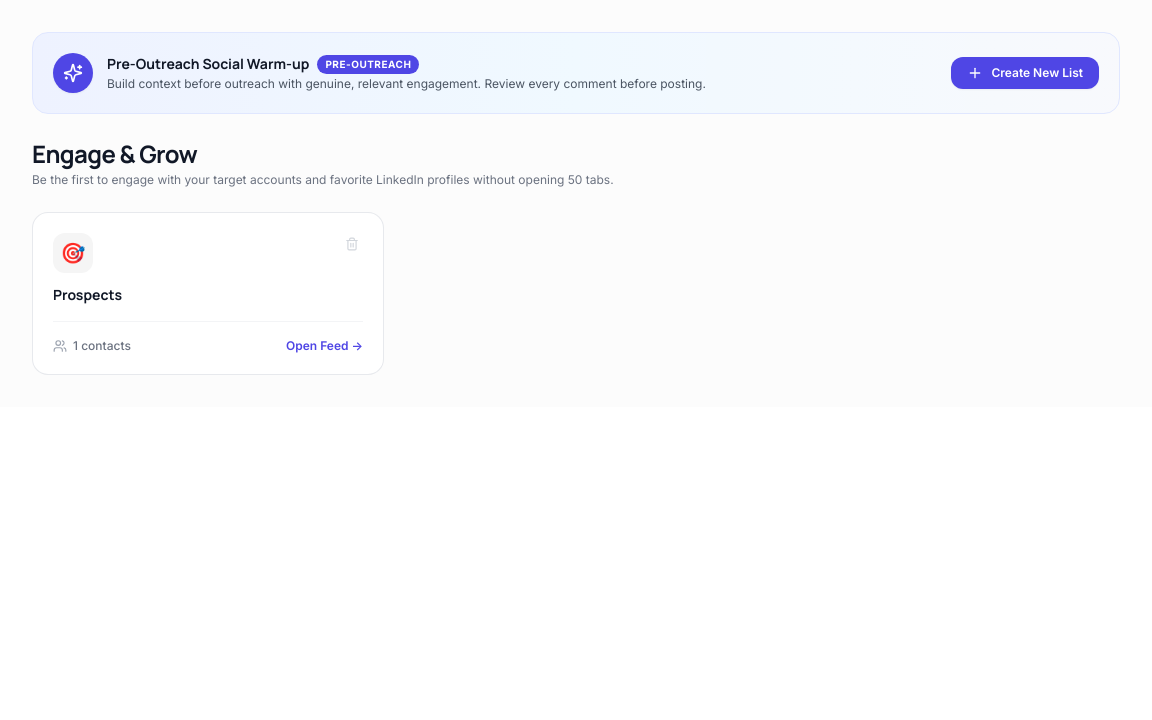
Engage review and reporting › approves and posts a review draft to LinkedIn and marks it completed
This screenshot has width=1152, height=720.
Later steps or results of the test are not shown.
What coordinates should you click on to do the following:
click the element showing "🎯 Prospects 1 contacts Open Feed →"
I would click on:
 (208, 294)
Its box is [32, 212, 384, 375].
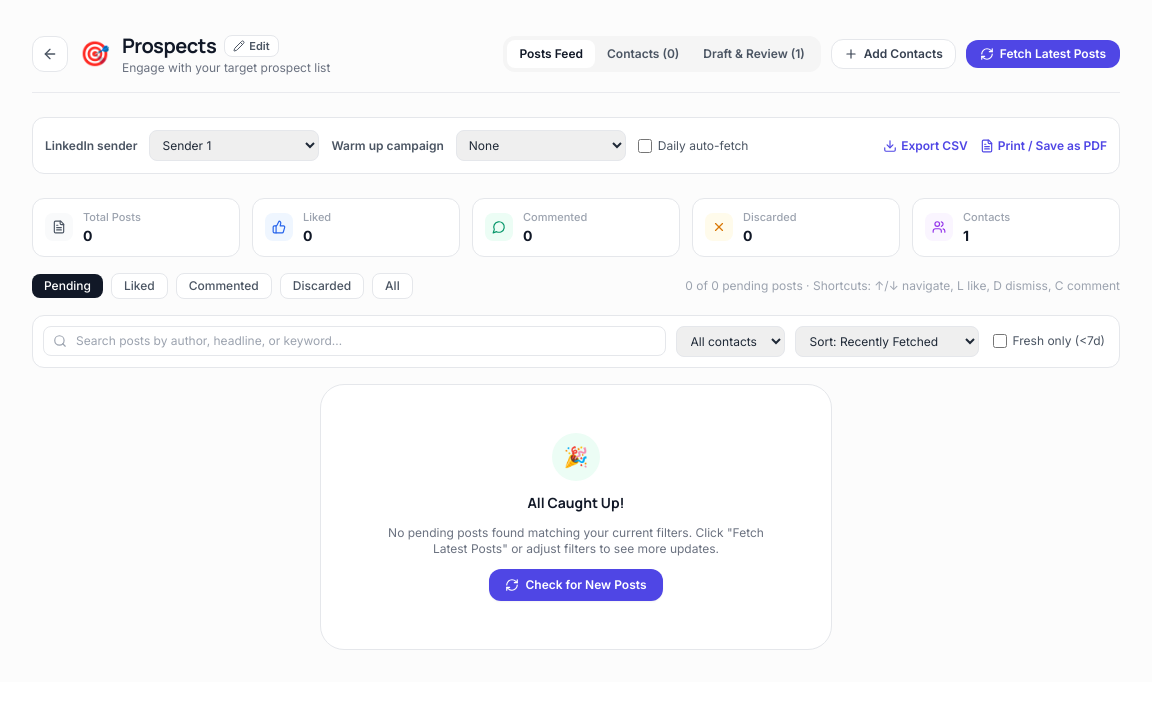
What coordinates should you click on to do the following:
click the button "Draft & Review (1)"
I would click on:
 (754, 54)
Its box is [691, 40, 817, 68].
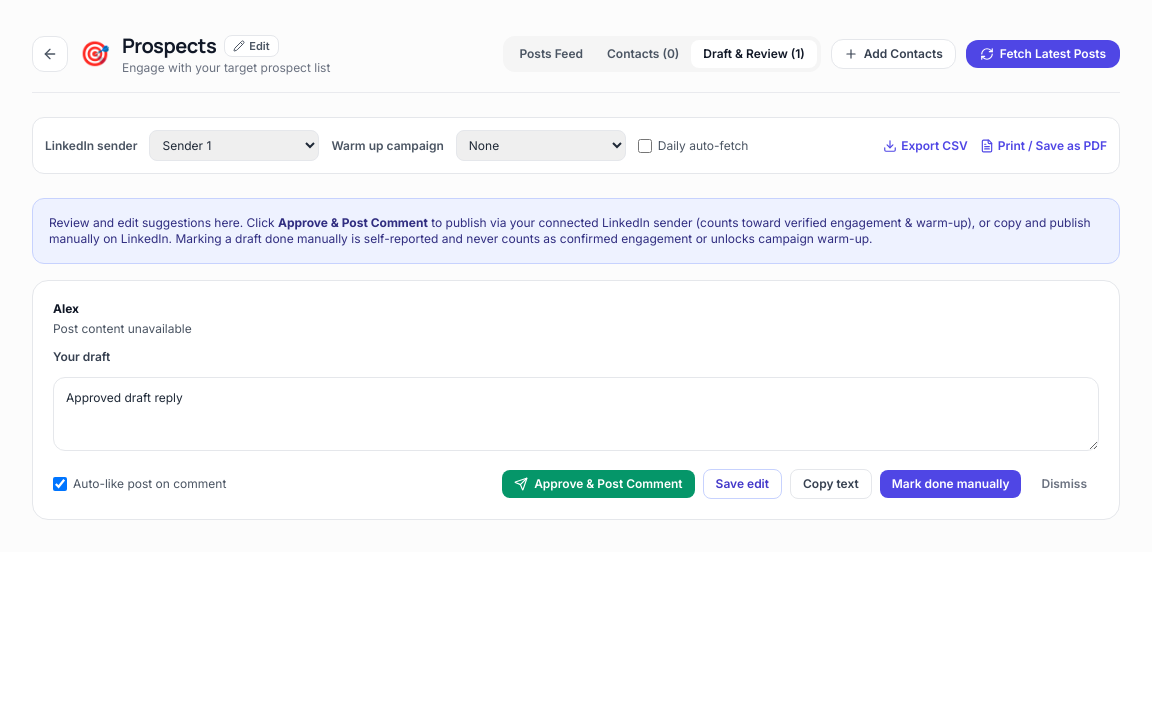
Expected: the button "Approve & Post Comment" is shown, [502, 470, 695, 498]
